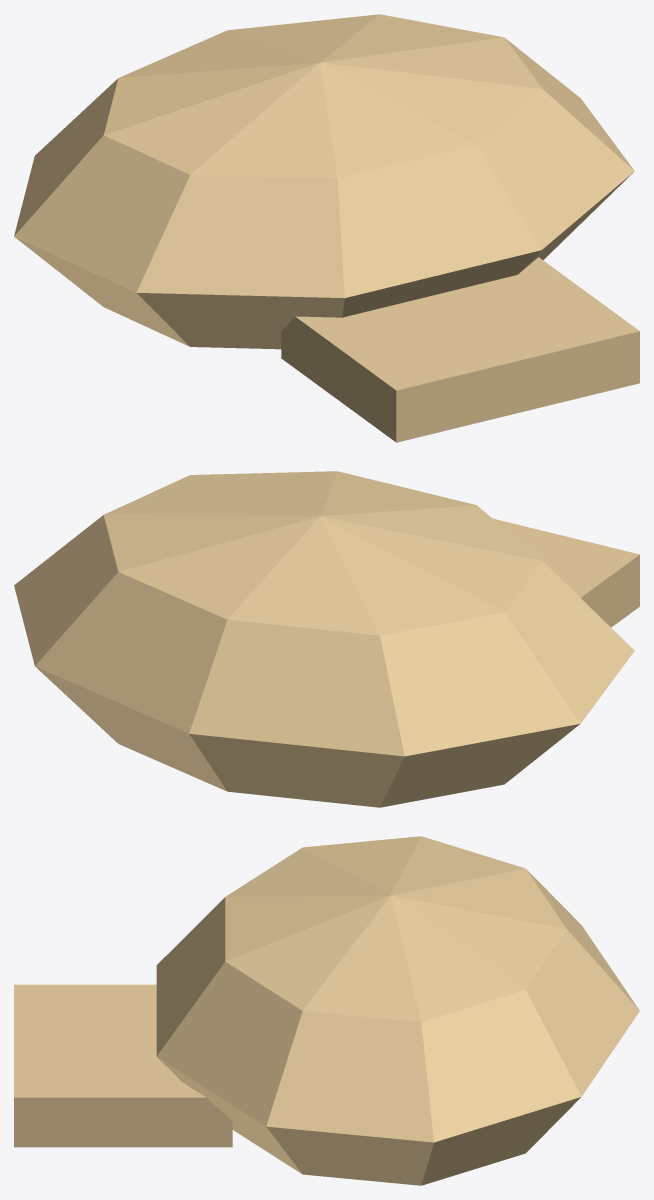
File: npc_headwear_04.glb
3 views of the same model, one above another, from view 1: azimuth 30°, elevation 25°; view 2: azimuth 150°, elevation 25°; view 3: azimuth 270°, elevation 25° (orthographic). The views are drawn at different scales.
Visible parts, largest first — view 1: npc_headwear_04; view 2: npc_headwear_04; view 3: npc_headwear_04.
Part boxes in pixels (left/top/right/bottom): npc_headwear_04: left=14, top=14, right=639, bottom=442; npc_headwear_04: left=14, top=471, right=639, bottom=807; npc_headwear_04: left=14, top=836, right=639, bottom=1185.
Bounding box in the file's own units: 0.5121 × 0.21 × 0.515.
